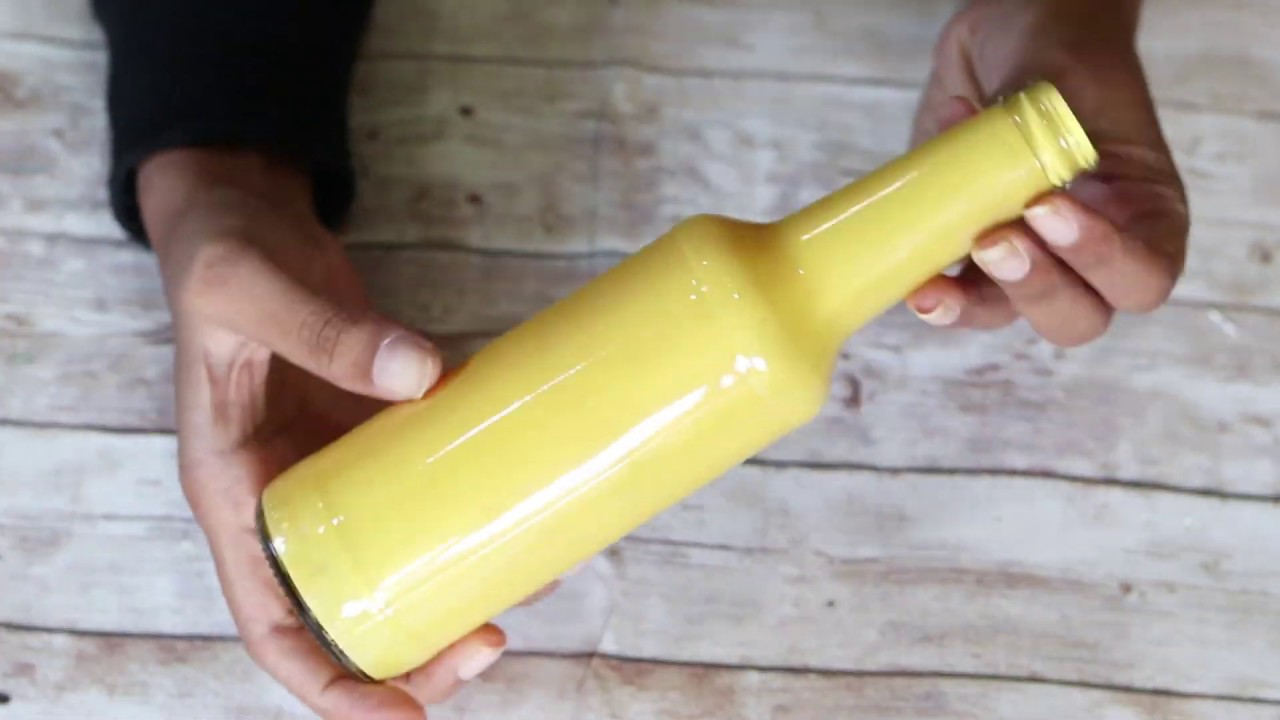glass_bottle: (253, 68, 1107, 696)
